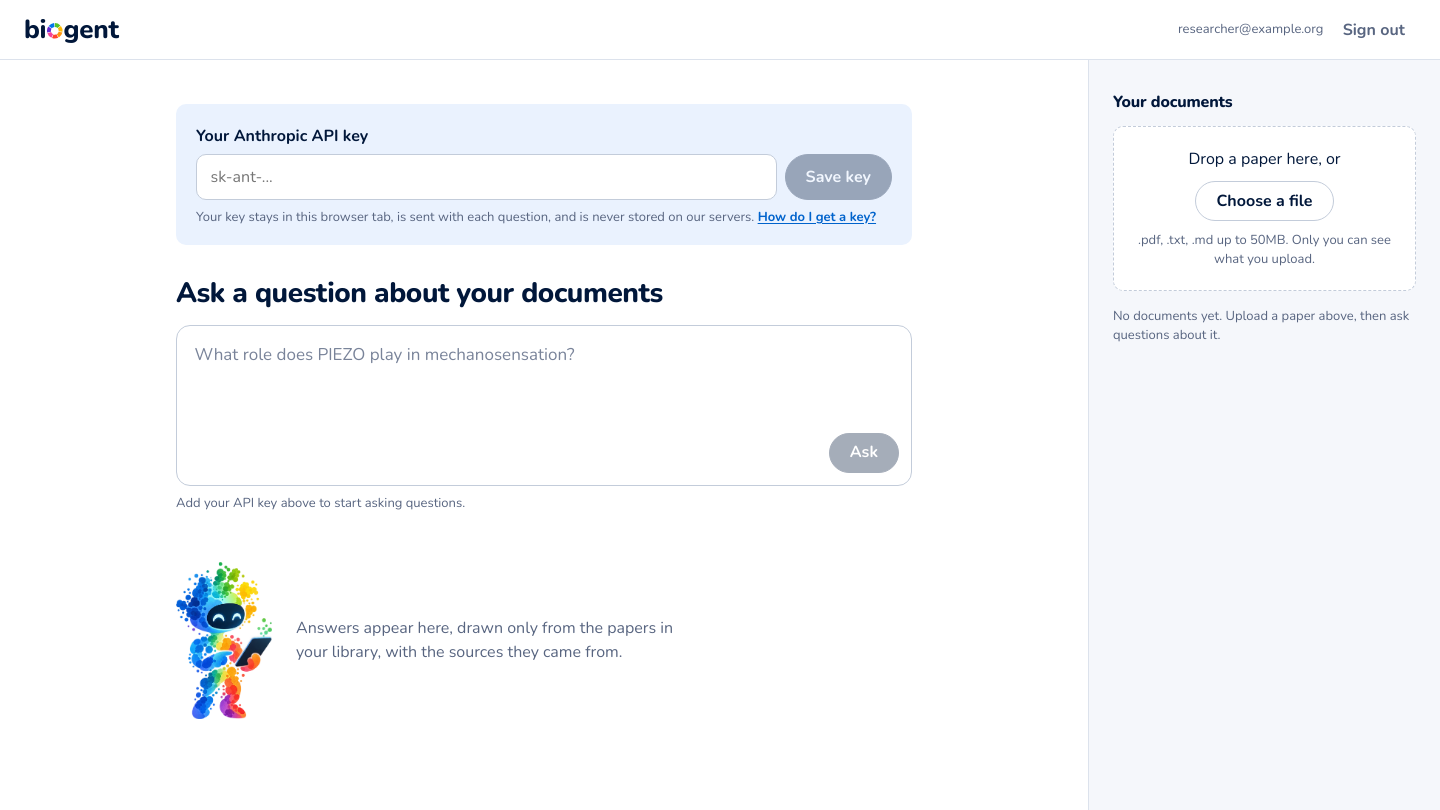
Test: App › masks the key once saved rather than displaying it back
The image size is (1440, 810).
Type "sk-ant-test-key" into the password field labelled "Your Anthropic API key" at (486, 177), box [196,154,777,200]
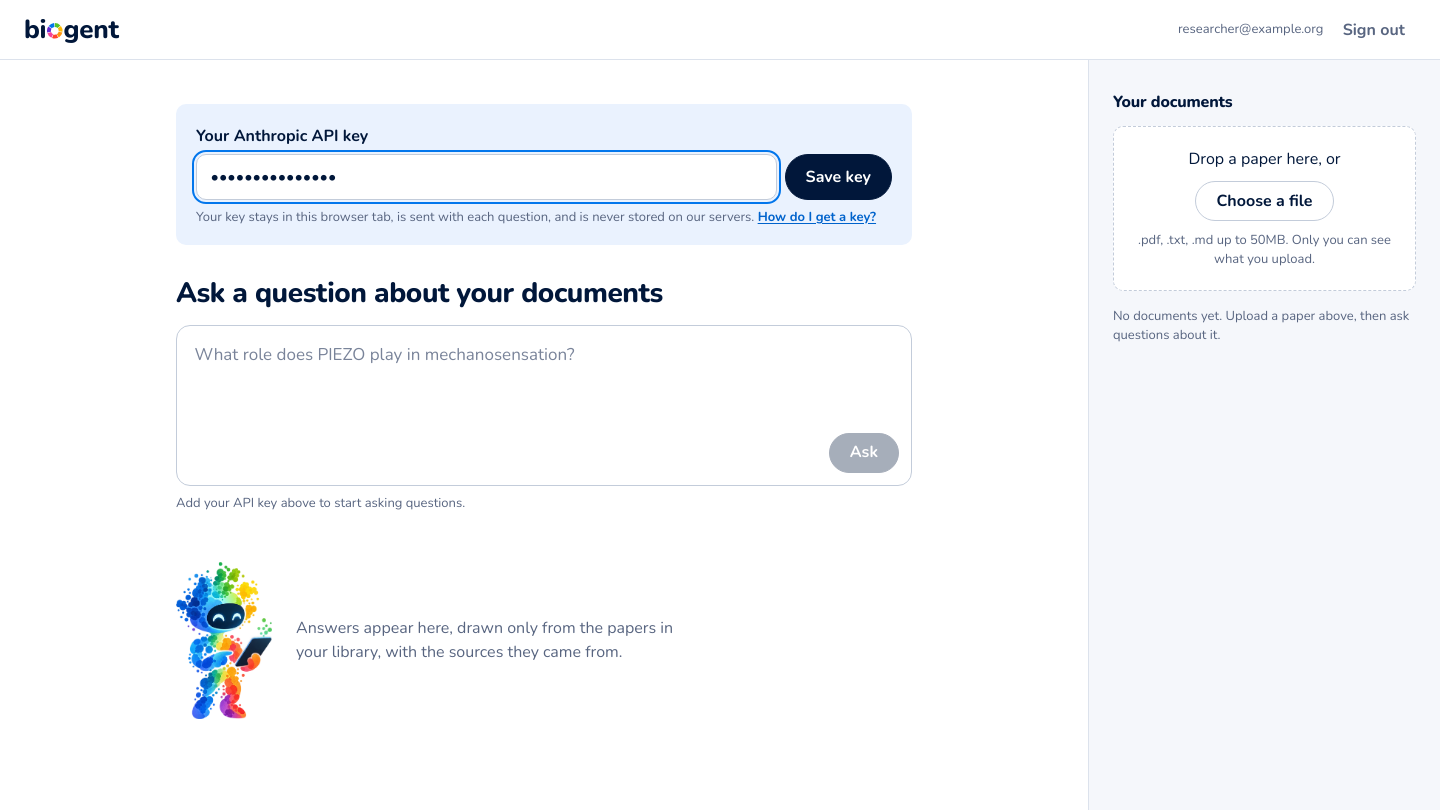
Click the button "Save key" at (838, 177), box [785,154,892,200]
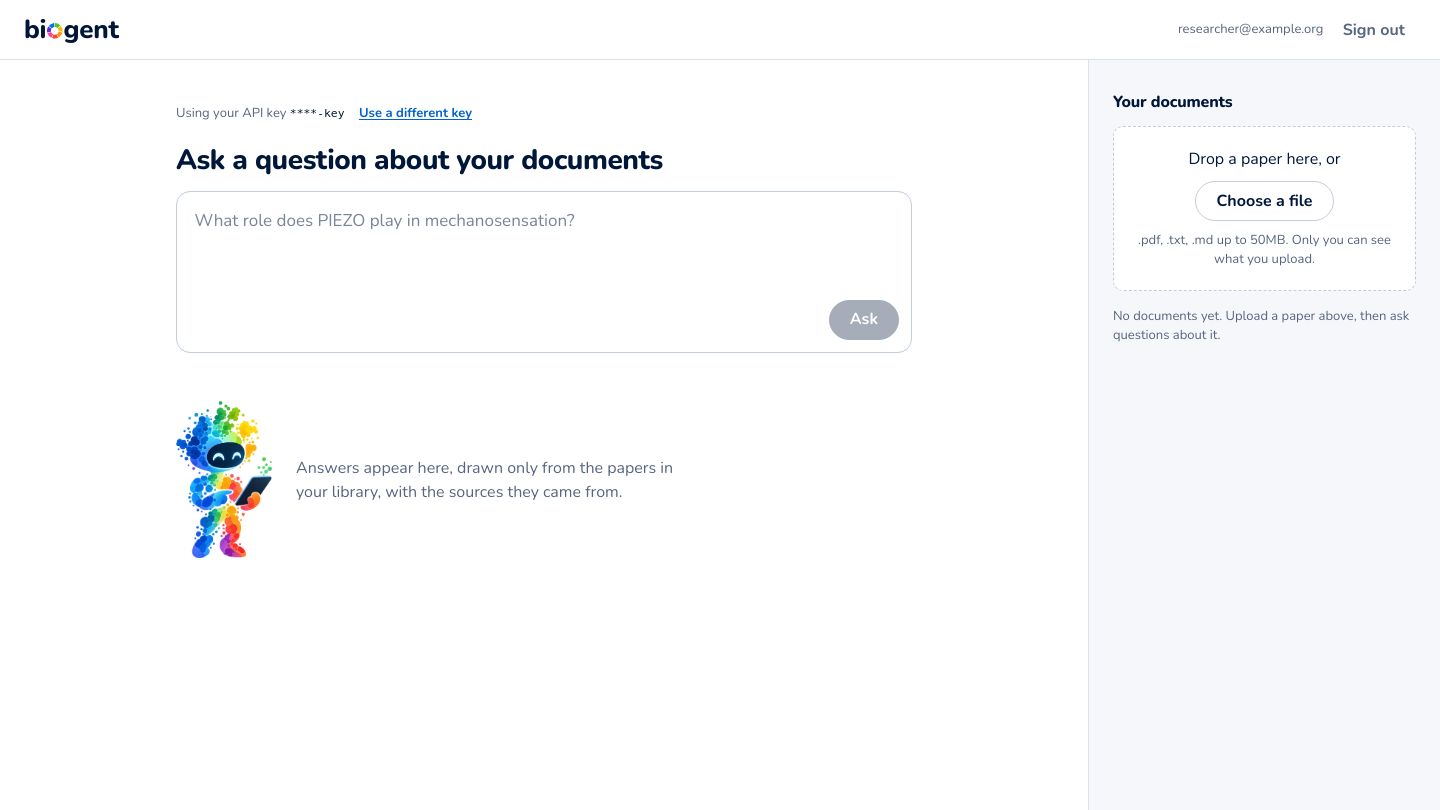
expect the text "****-key" is shown: met, box [290,106,344,120]
